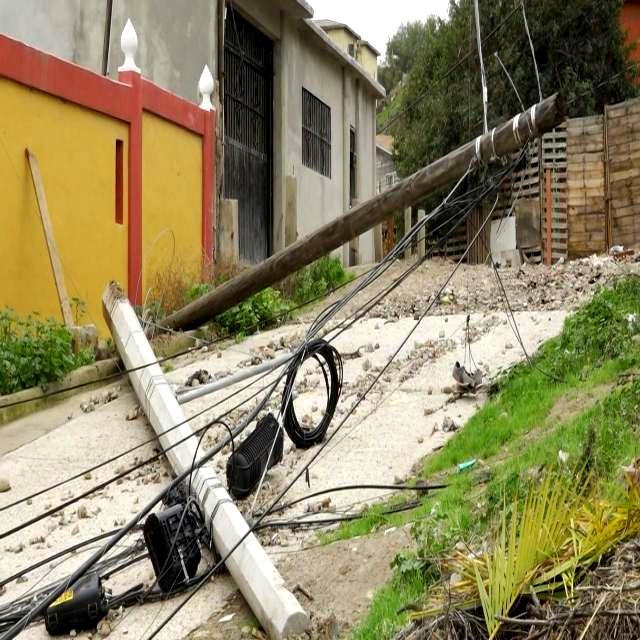Broken Pole: (43, 282, 345, 640), (142, 92, 565, 337)
